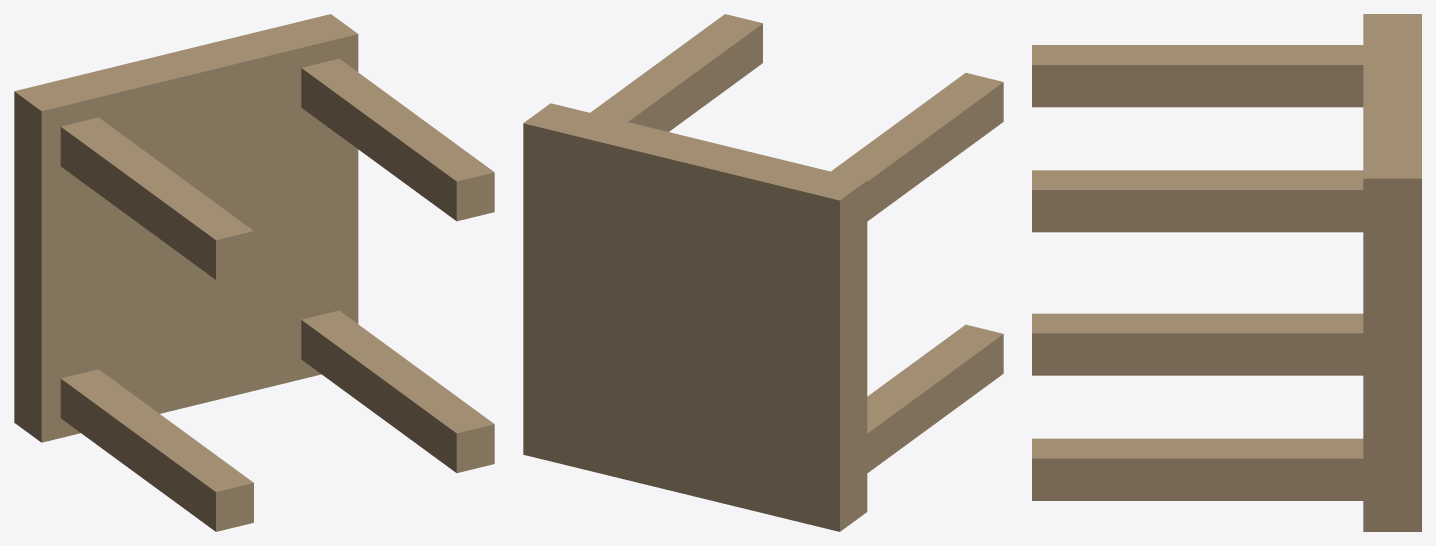
File: spruce_table_held.gltf
The picture shows the model from 3 angles, left to right: view 1: azimuth 30°, elevation 25°; view 2: azimuth 150°, elevation 25°; view 3: azimuth 270°, elevation 25°; orthographic projection. The views are drawn at different scales.
Parts seen in each view (by area): view 1: building_spruce_table_held; view 2: building_spruce_table_held; view 3: building_spruce_table_held.
Part boxes in pixels (x1,y1,x2,y2): building_spruce_table_held: (14,14,494,531); building_spruce_table_held: (523,14,1003,531); building_spruce_table_held: (1032,14,1421,531).
Bounding box in the file's own units: 0.16 × 0.16 × 0.16.
